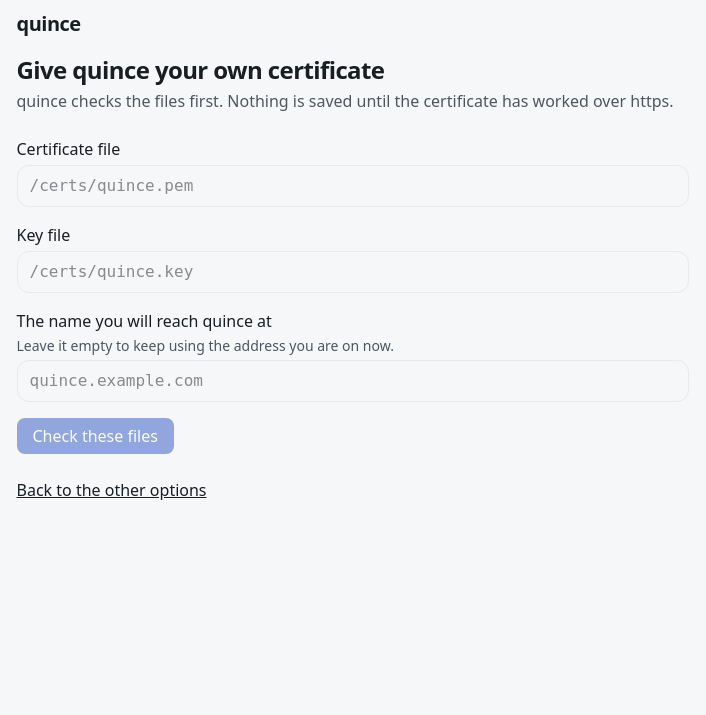
Test: the certificate step › does not offer the trial for a pair the check refused
Type "/tls/fullchain.pem" into the field labelled "Certificate file". click: (352,186)
box: [16,165,688,207]
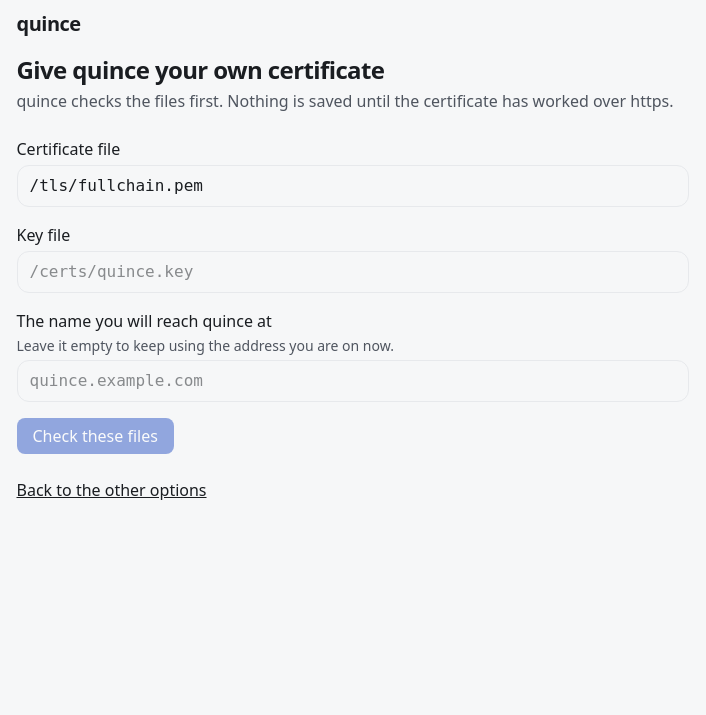
Type "/tls/privkey.pem" into the field labelled "Key file". click: (352,272)
box: [16,251,688,293]
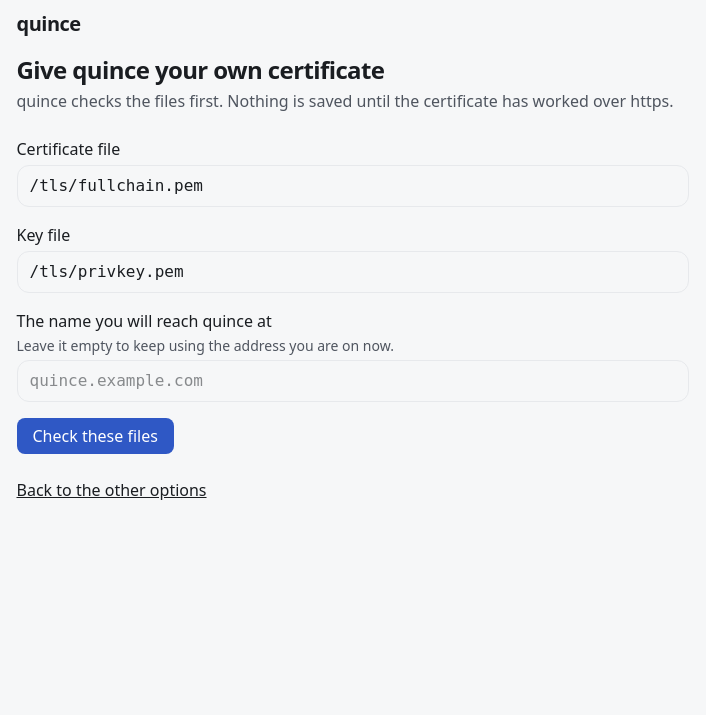
Click the button "Check these files". click: (95,436)
box: [16,418,174,454]
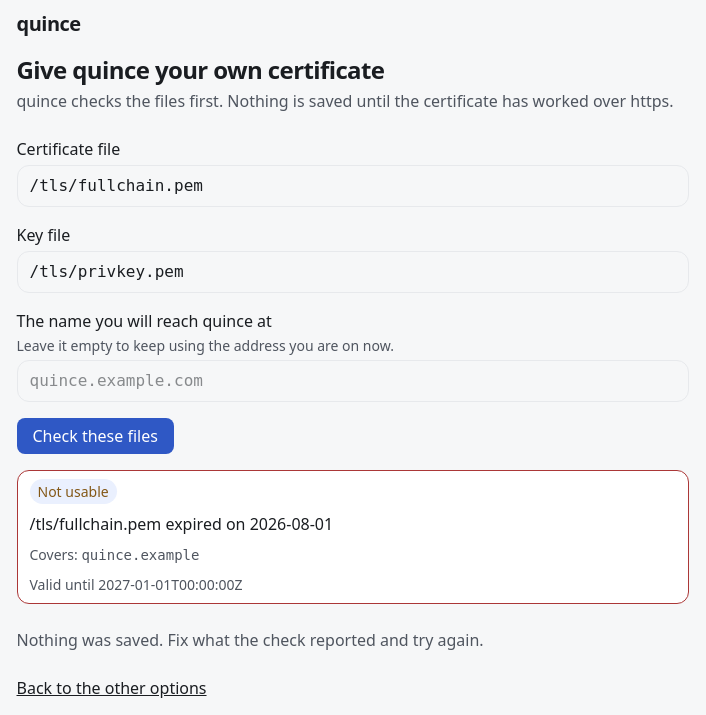
Expected: the text "Nothing was saved" is shown, [16,629,484,651]
